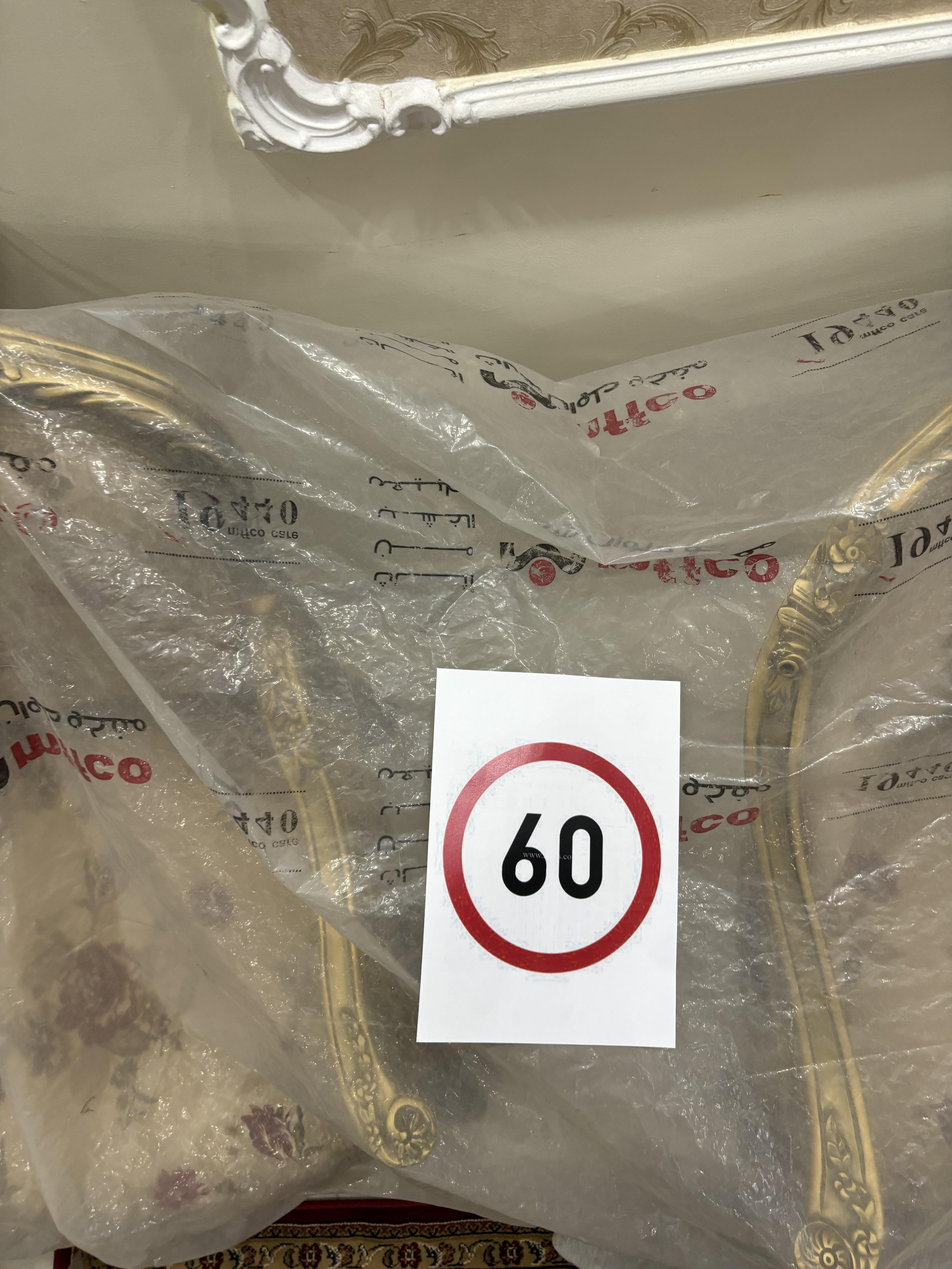60-Speed: (432, 740, 674, 981)
